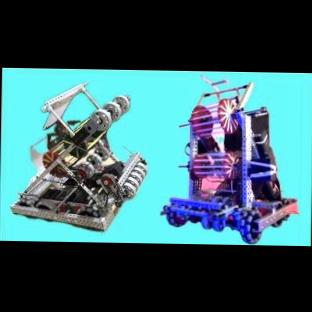Robot: (160, 74, 297, 243), (10, 82, 146, 230)
